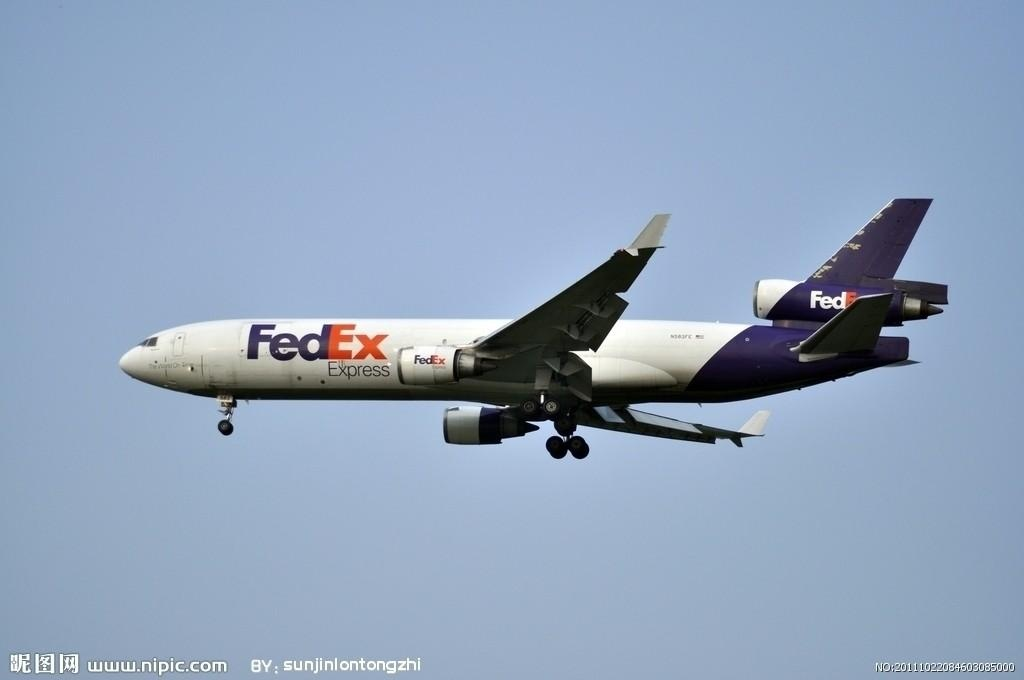airplane: (106, 195, 957, 464)
